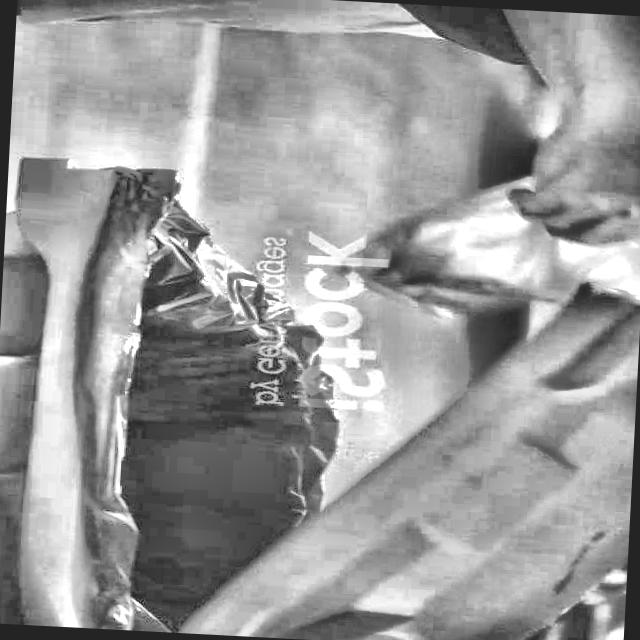Empty: (88, 231, 341, 623)
